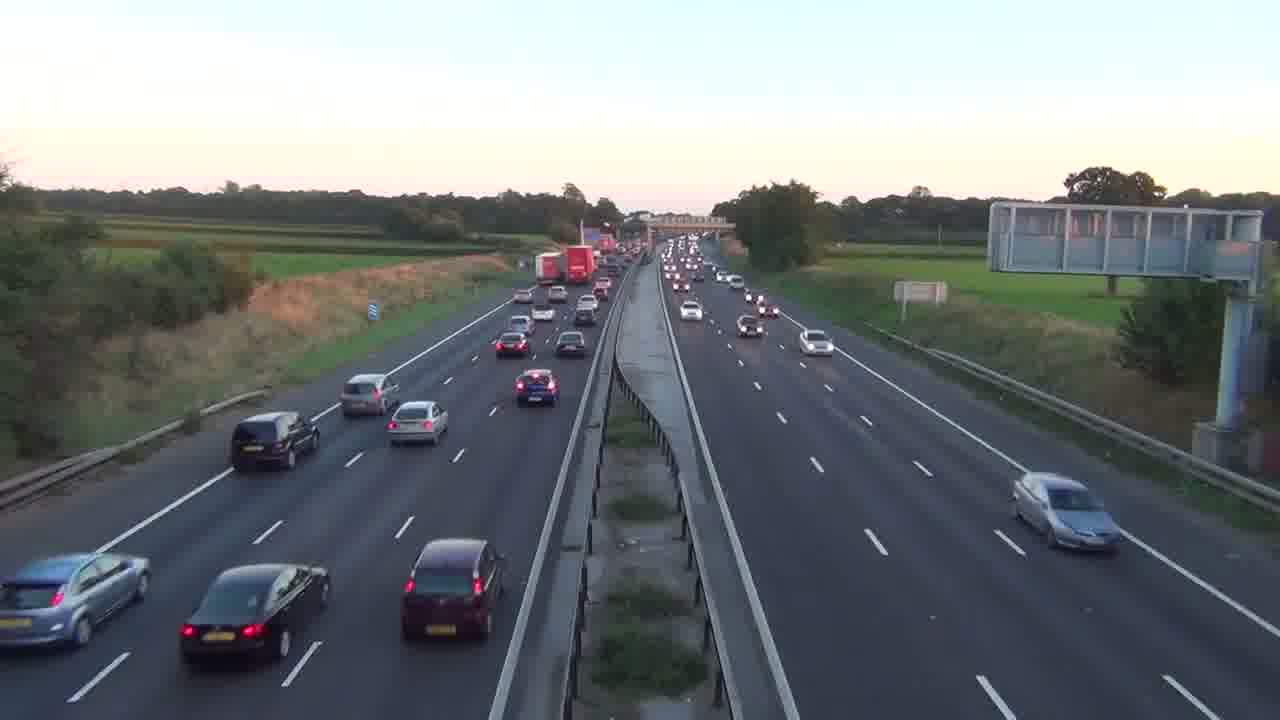car: (177, 560, 332, 667), (0, 551, 151, 651), (400, 537, 508, 641), (1011, 470, 1123, 552), (386, 400, 449, 447), (339, 371, 387, 418), (513, 368, 559, 406), (493, 333, 533, 359), (553, 330, 587, 358)
truck: (229, 409, 321, 473)
